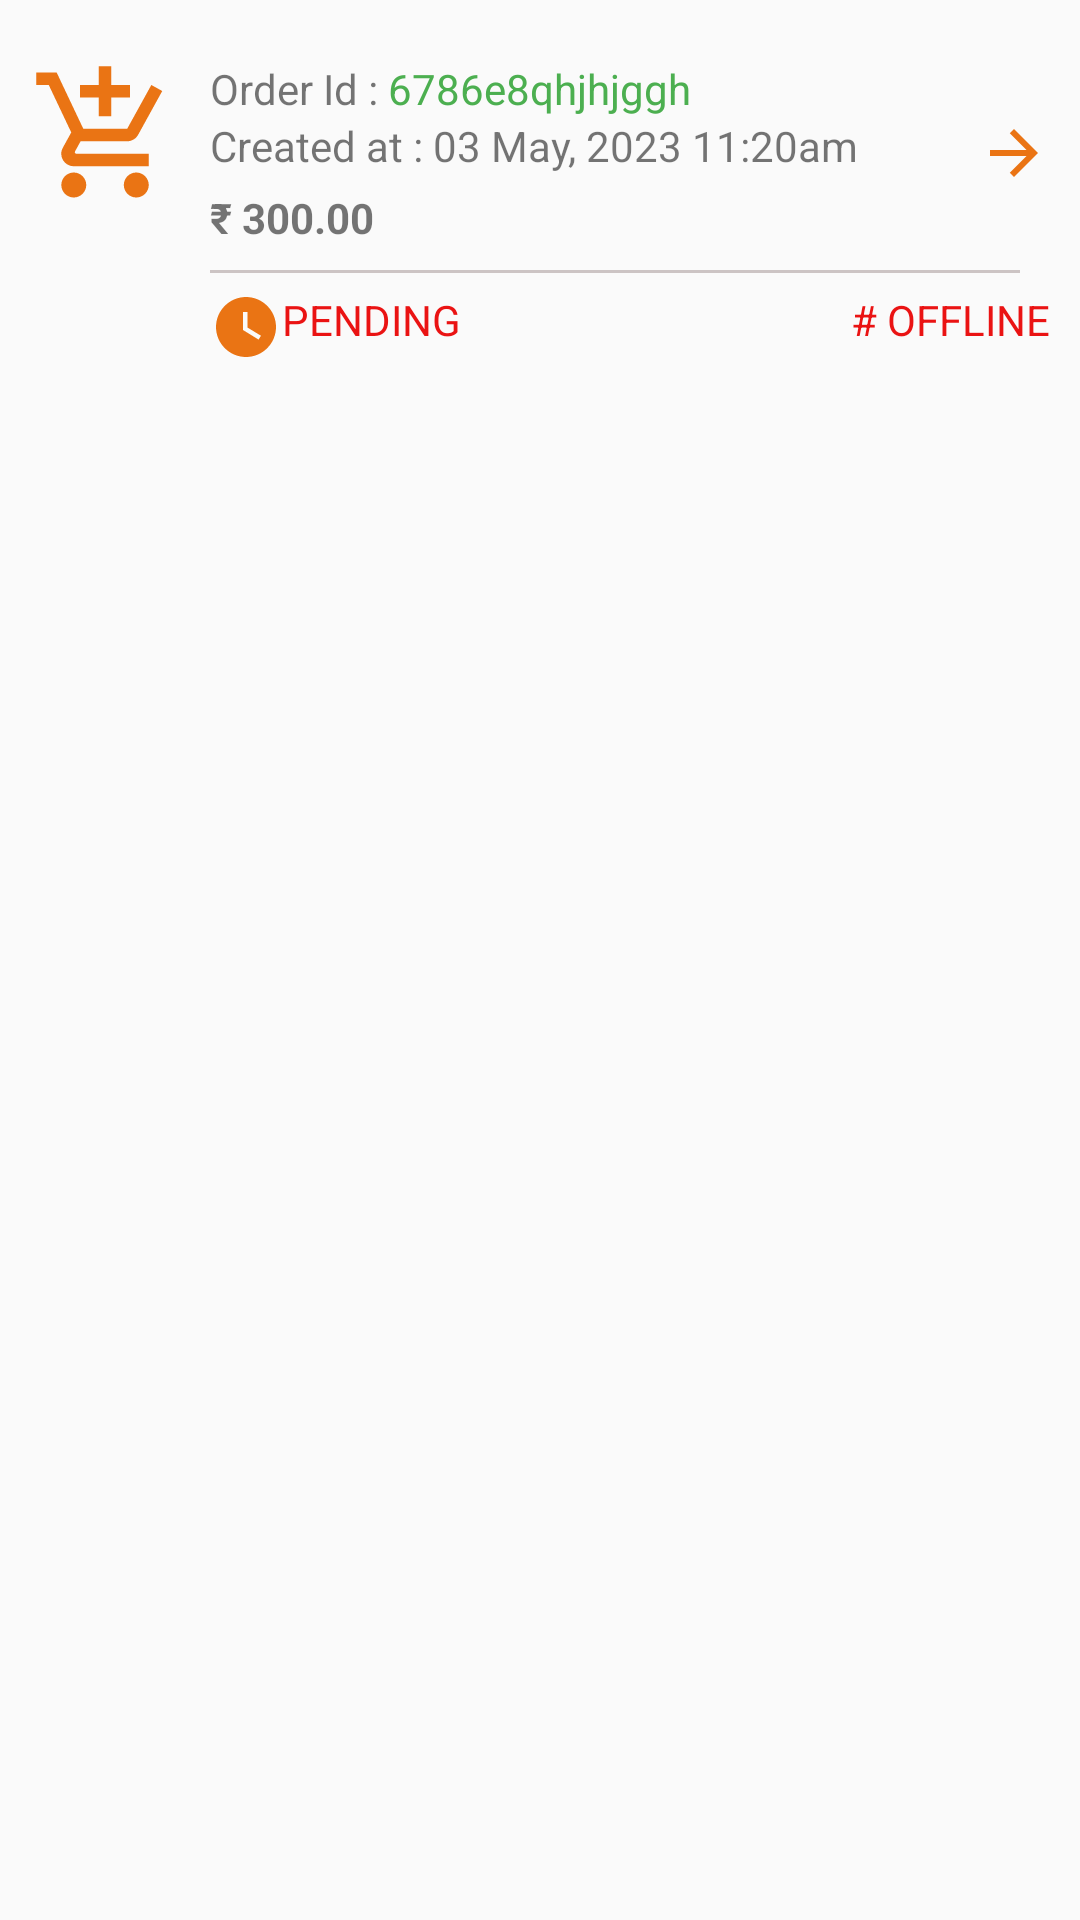

Named icons in this screenshot (1080px×1920px) and their centers, point (x, y):
cart: point (99, 132)
forward: point (1014, 153)
watch: point (246, 327)
